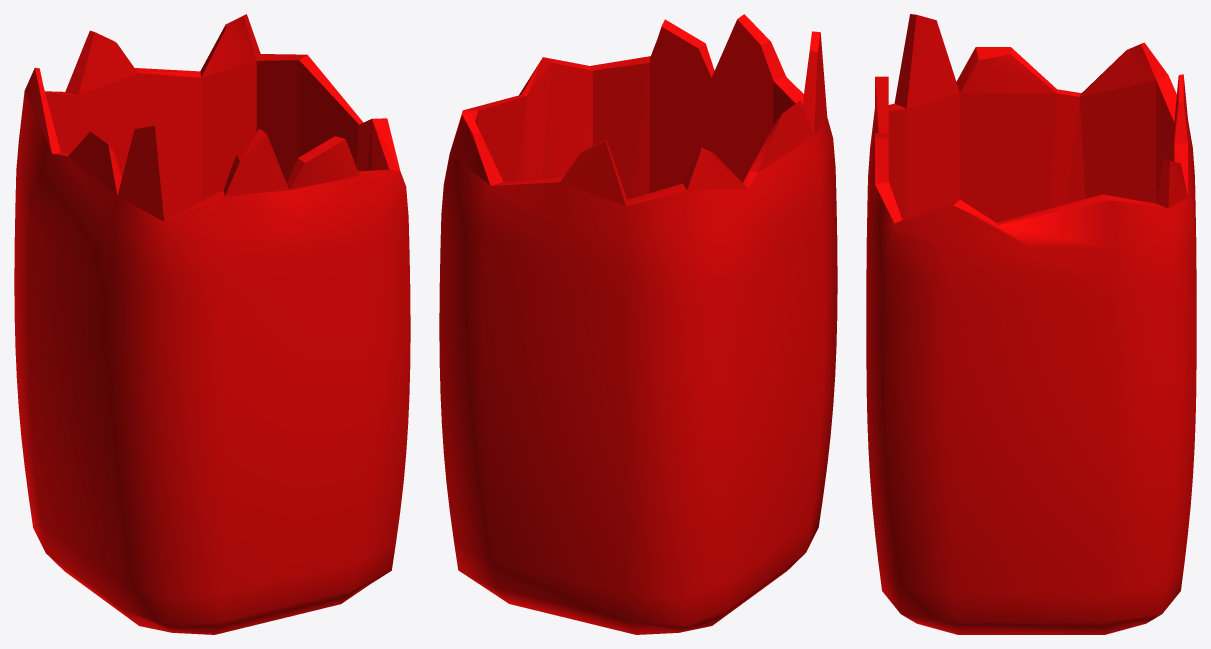
The model's file is umgebung_flasche_2_low.FBX.
The picture shows the model from 3 angles, left to right: view 1: azimuth 30°, elevation 25°; view 2: azimuth 150°, elevation 25°; view 3: azimuth 270°, elevation 25°; orthographic projection. The views are drawn at different scales.
Visible parts, largest first — view 1: o_flasche_2_low; view 2: o_flasche_2_low; view 3: o_flasche_2_low.
Part boxes in pixels (bbox=[...]): o_flasche_2_low: bbox=[14, 14, 410, 634]; o_flasche_2_low: bbox=[439, 14, 837, 634]; o_flasche_2_low: bbox=[866, 14, 1196, 634].
Bounding box in the file's own units: 10.24 × 10.48 × 18.21.
